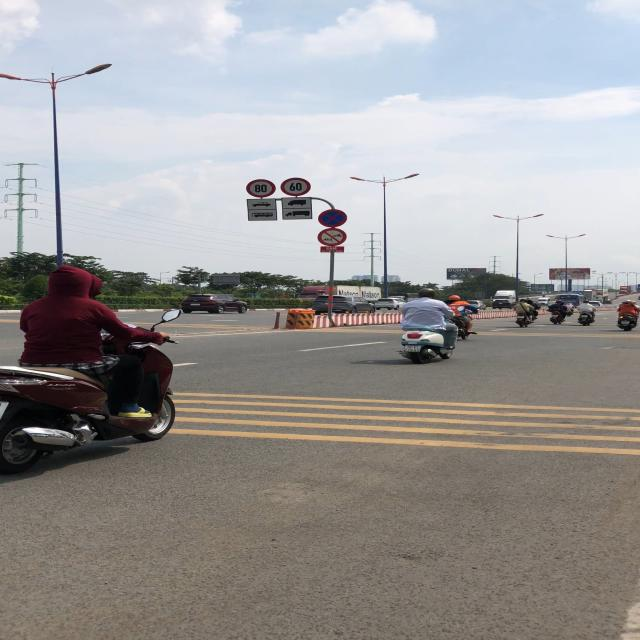Bien bao cam dung xe va do xe: (318, 207, 347, 227)
Bien bao toc do toi da cho phep: (245, 178, 278, 199), (280, 177, 312, 197)
